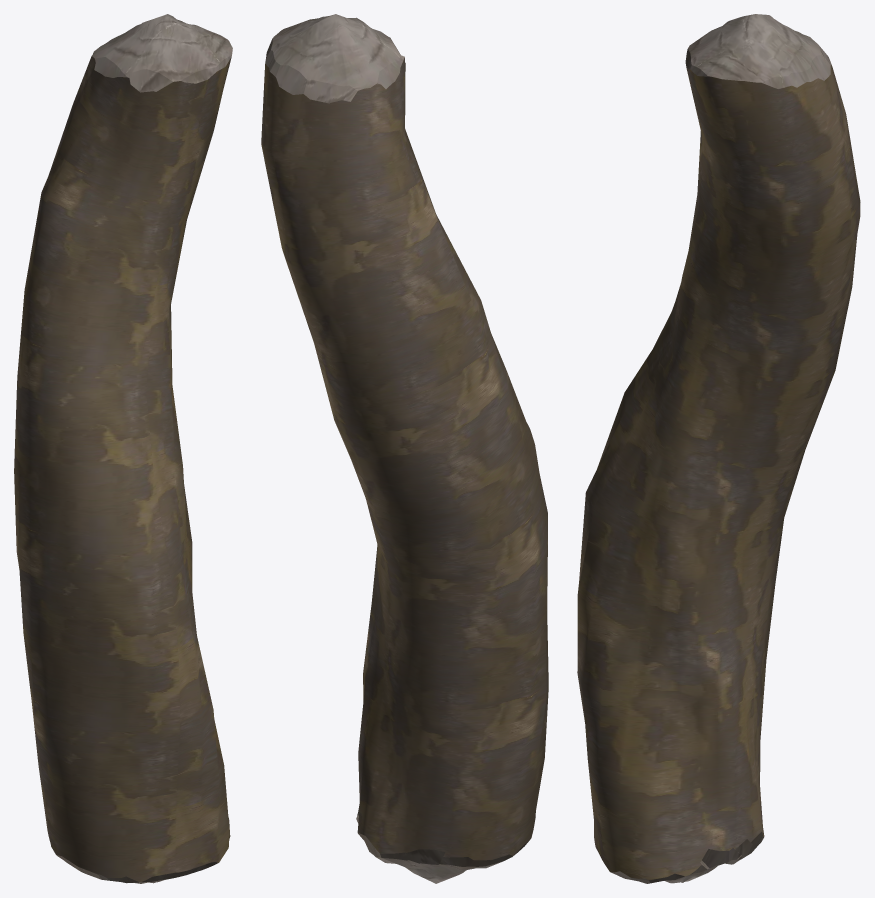
3 views of the same model, side by side, from view 1: azimuth 30°, elevation 25°; view 2: azimuth 150°, elevation 25°; view 3: azimuth 270°, elevation 25° (orthographic). The views are drawn at different scales.
Parts seen in each view (by area): view 1: SM_Yew_03_half_bottom_LOD0; view 2: SM_Yew_03_half_bottom_LOD0; view 3: SM_Yew_03_half_bottom_LOD0.
Part boxes in pixels (x1,y1,x2,y2): SM_Yew_03_half_bottom_LOD0: (14,14,232,883); SM_Yew_03_half_bottom_LOD0: (261,14,548,883); SM_Yew_03_half_bottom_LOD0: (577,14,860,883).
Bounding box in the file's own units: 1.02 × 3.69 × 1.05.
